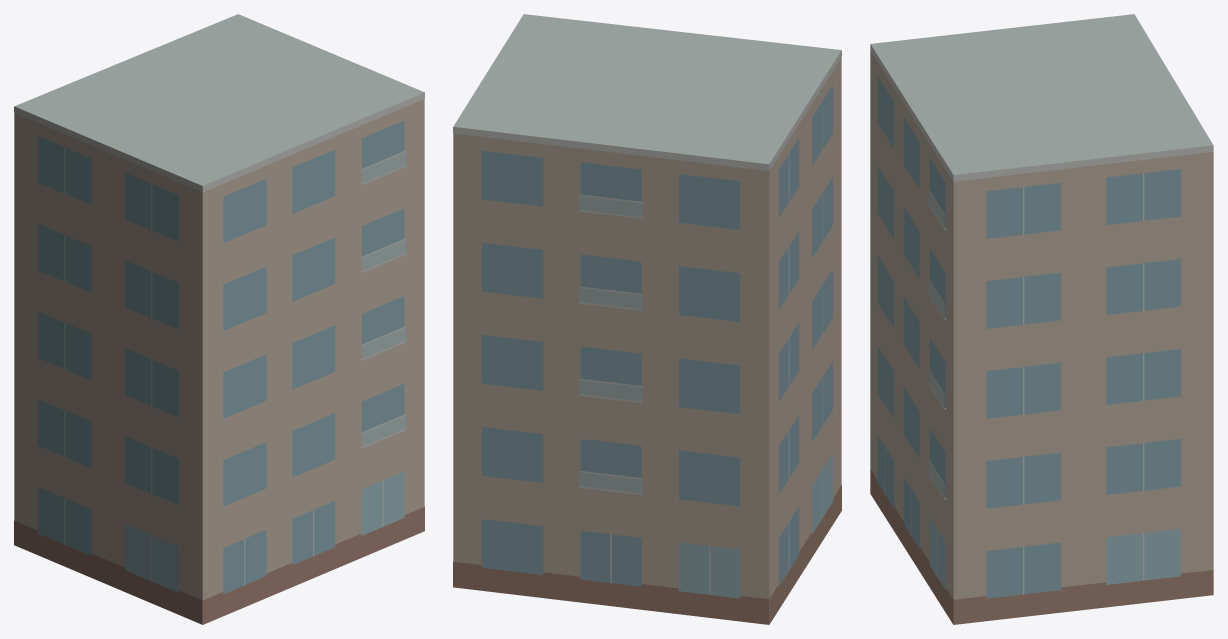
The model's file is survey-upis-33021364.glb.
3 renders of one model, left to right at view 1: azimuth 30°, elevation 25°; view 2: azimuth 150°, elevation 25°; view 3: azimuth 270°, elevation 25°, orthographic. The views are drawn at different scales.
Visible parts, largest first — view 1: survey-upis-33021364.tmp; view 2: survey-upis-33021364.tmp; view 3: survey-upis-33021364.tmp.
Part boxes in pixels (box(x1,y1,x2,y2)): survey-upis-33021364.tmp: box(14, 14, 424, 624); survey-upis-33021364.tmp: box(453, 14, 841, 624); survey-upis-33021364.tmp: box(870, 14, 1213, 624).
Size of the model in its own units: 12.88 by 16.75 by 11.6.
